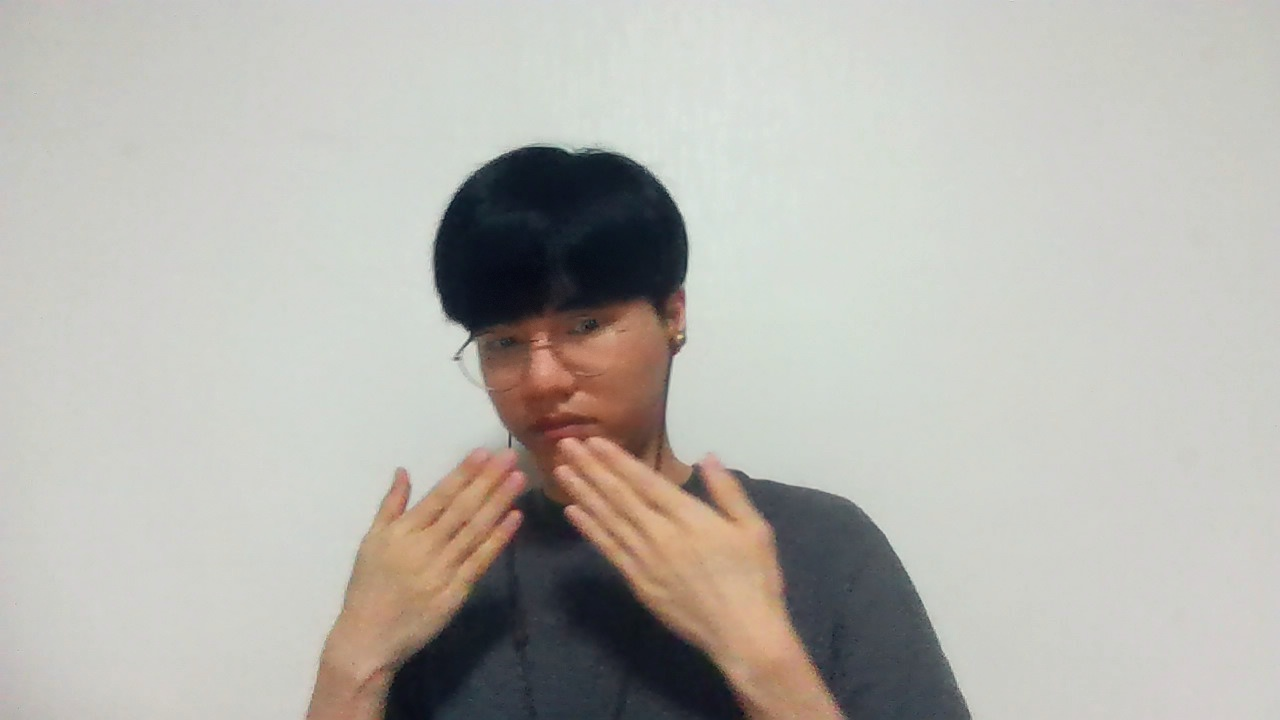Thanks: (314, 435, 787, 648)
